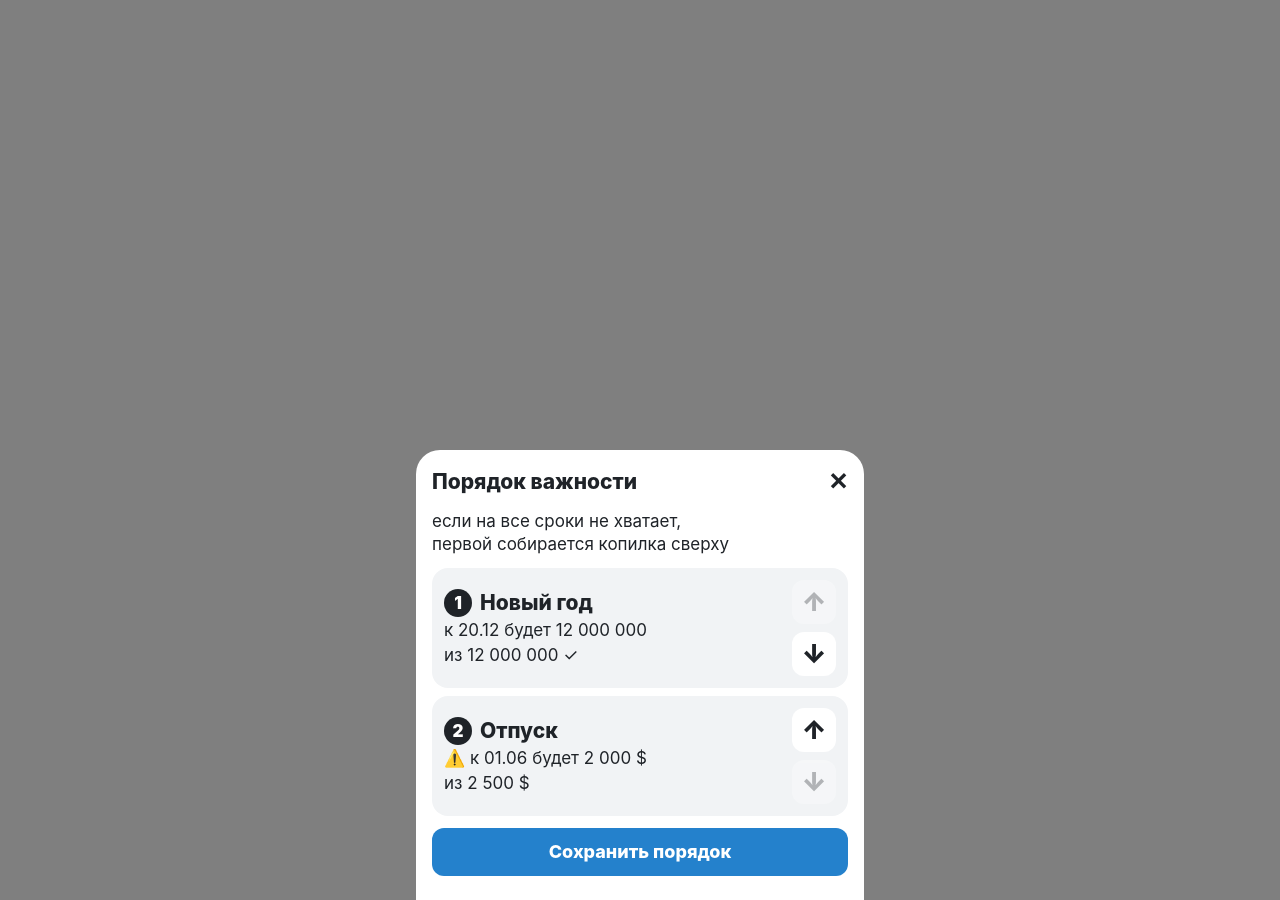
Test: OrderSheet › re-reads the piggies when the set changed meanwhile
The width and height of the screenshot is (1280, 900).
Step 1. Click the button "Сохранить порядок" → (640,852), box [432,828,848,876]
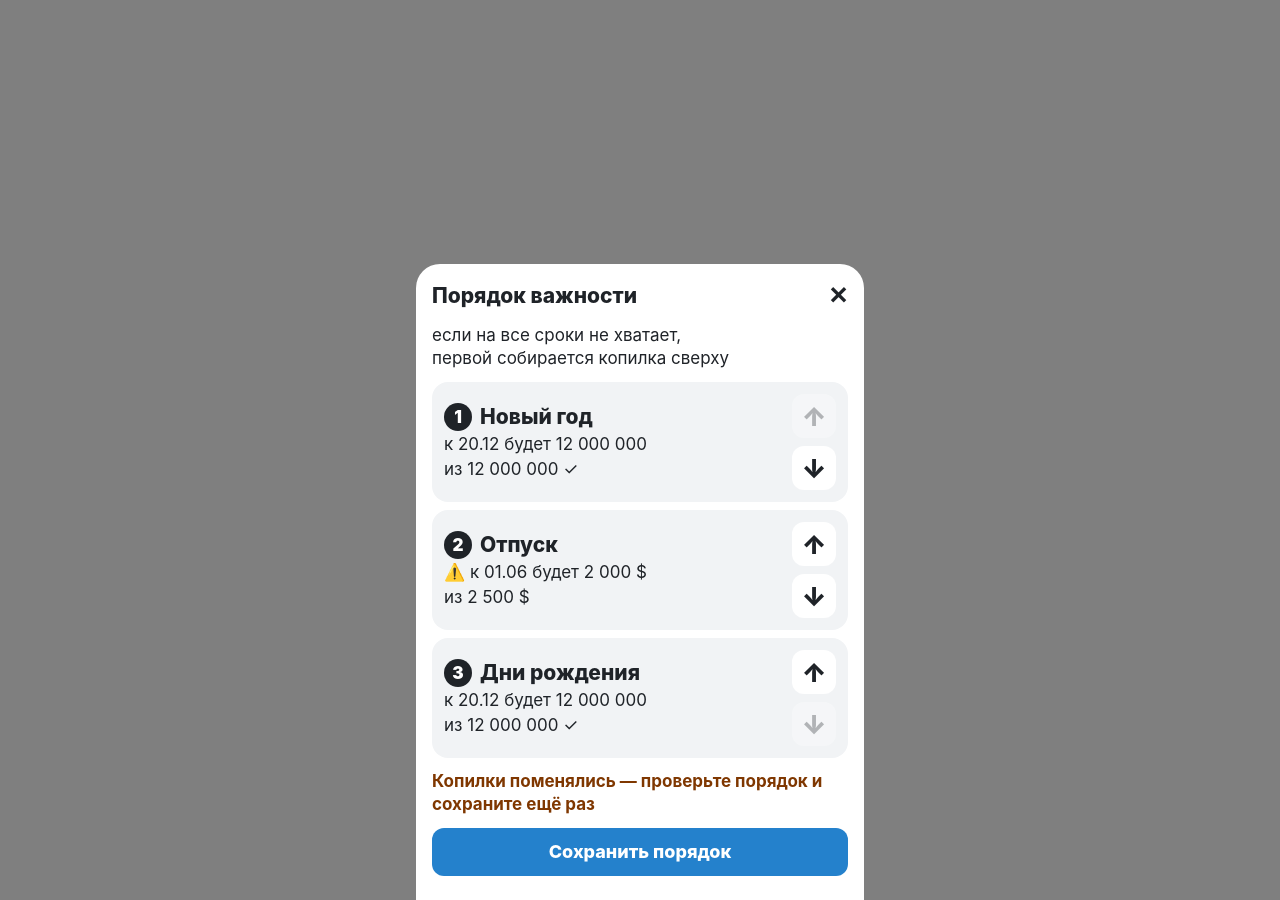
expect the text "Копилки поменялись — проверьте порядок и сохраните ещё раз" is shown: met, box [432,770,848,816]
